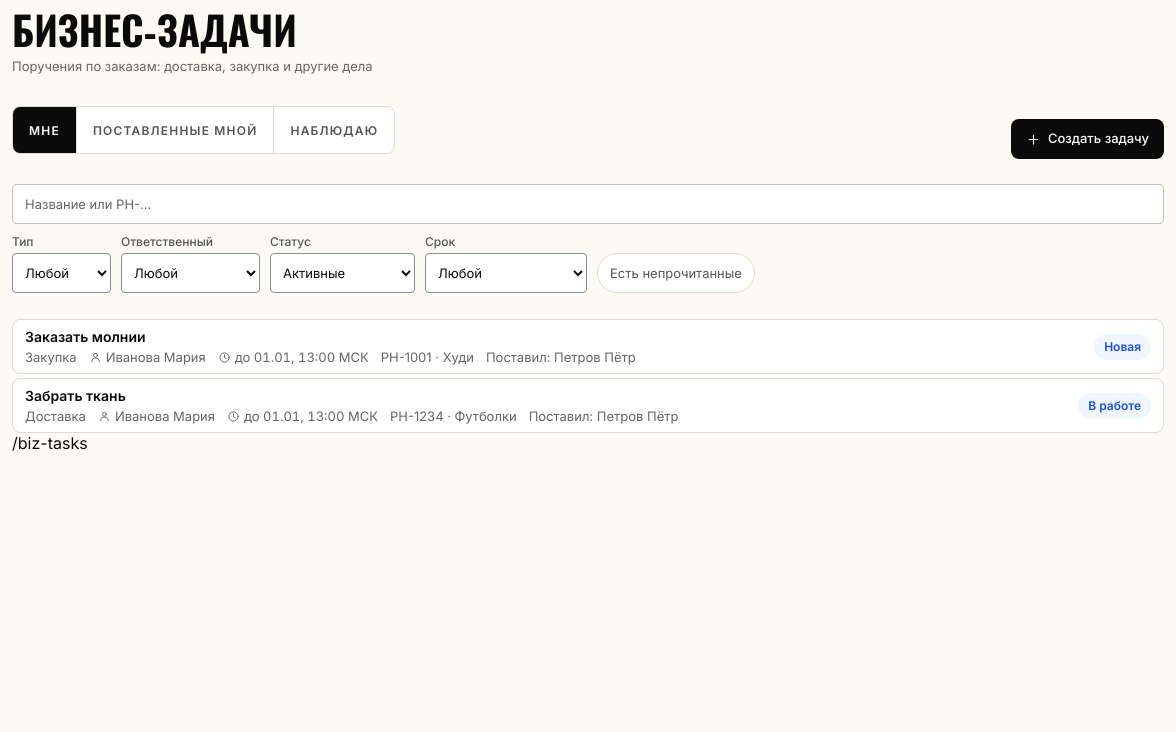
Test: BizTasksScreen › под фильтры ничего — «Ничего не нашлось» и «Сбросить фильтры»
This screenshot has width=1176, height=732.
expect the link "Заказать молнии" is shown: met, box [12, 319, 1164, 374]
In the search field named "Поиск": (588, 204) [12, 184, 1164, 224], type "кепка"
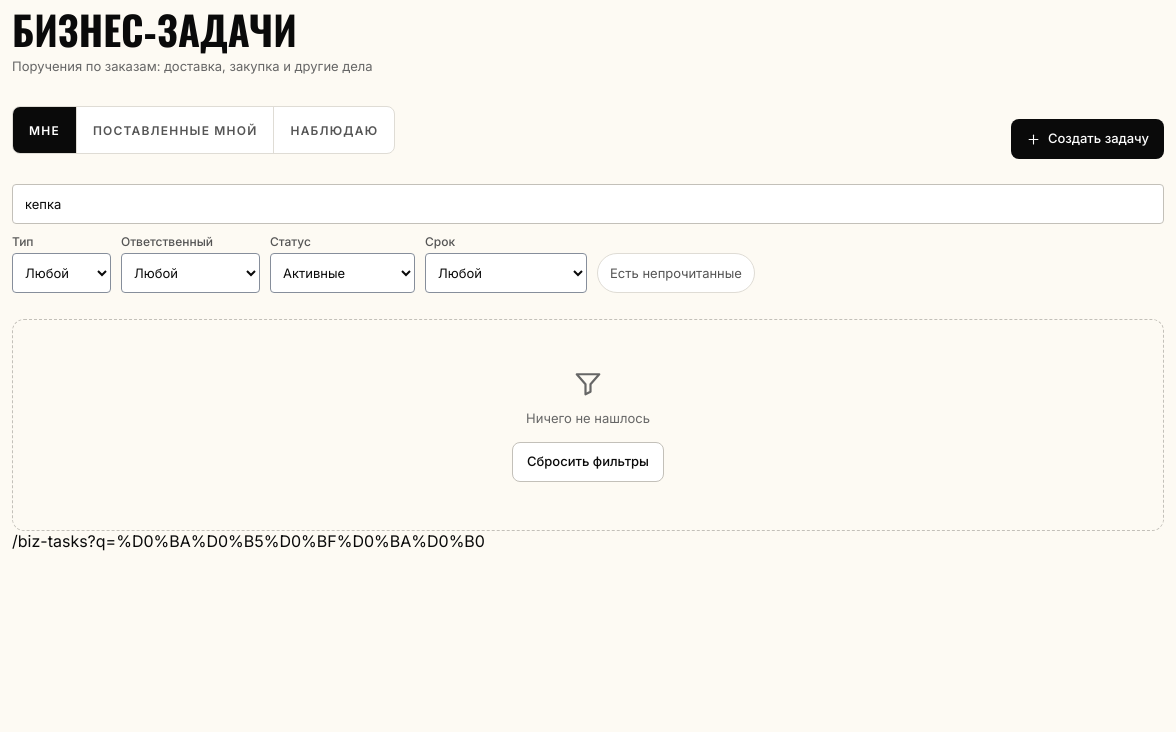
expect the text "Ничего не нашлось" is shown: met, box [526, 410, 650, 426]
Click the button "Сбросить фильтры": (588, 462) [512, 442, 664, 482]
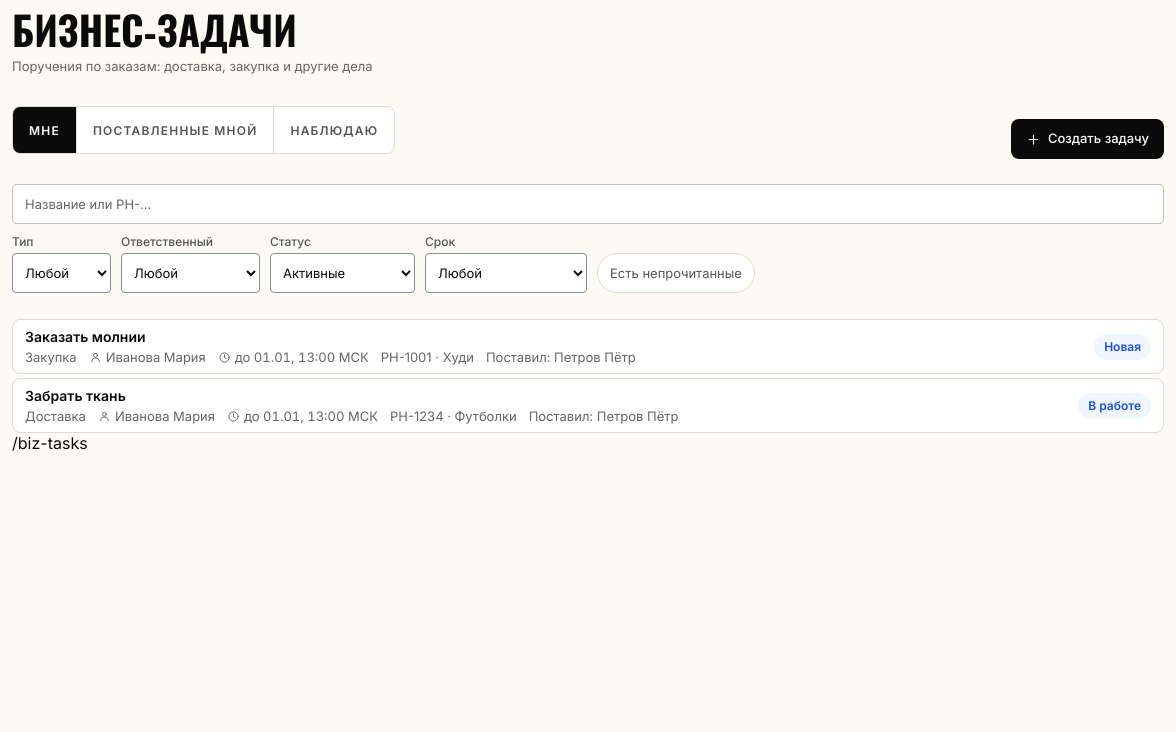
expect the number of links is 2: met, box [12, 319, 1164, 374]; [12, 378, 1164, 433]
expect the text with test id "where" reads "/biz-tasks": met, box [12, 433, 88, 453]
